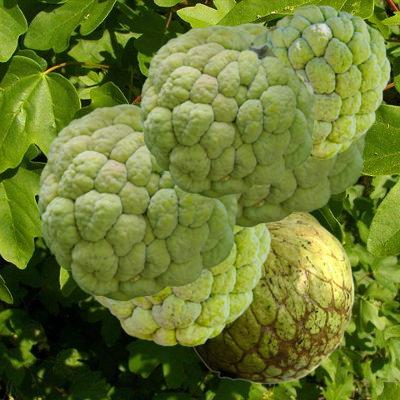atis: (38, 104, 236, 300), (140, 25, 314, 197), (227, 23, 365, 226), (192, 213, 353, 383), (91, 224, 269, 345), (251, 5, 389, 158)
